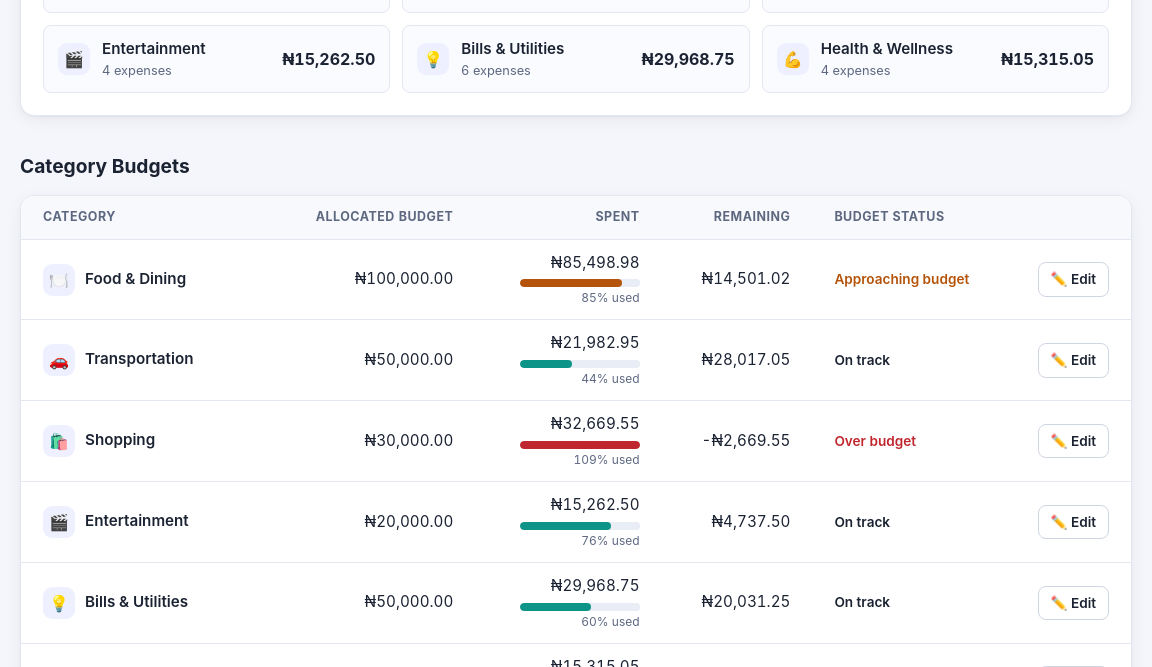
it: App › category budgets › shows live budget progress and threshold alerts
(page scrolled)
Expected: the message "Over budget" is shown, [834,433,916,449]
Click the button with aria-label "Edit budget for Transportation" at point(1073, 360), box [1038,343,1109,378]
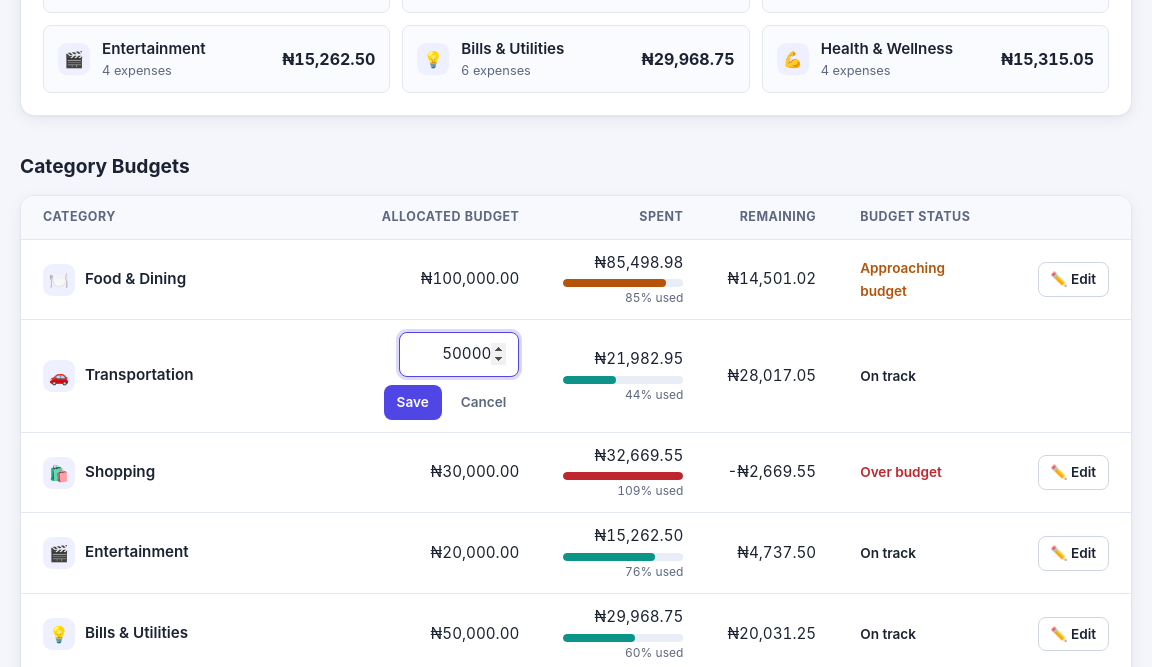
Replace the text in the number field named "Allocated budget for Transportation" with "27000" at point(459, 355), box [399,332,519,377]
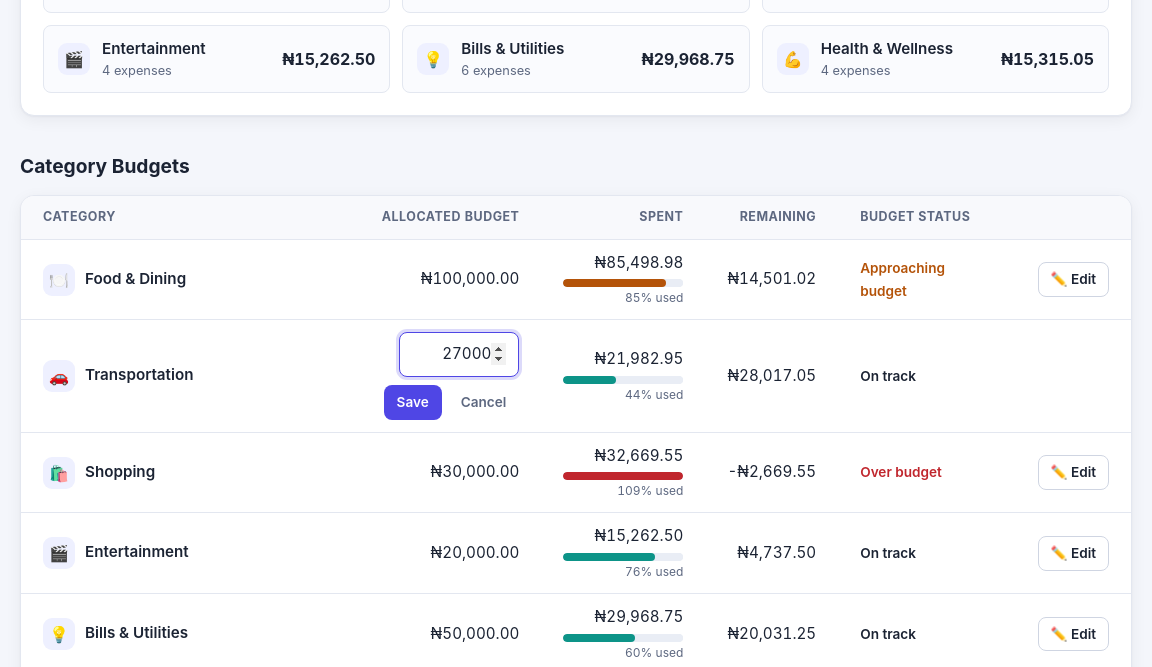
Click the button "Save" at point(413, 402), box [384,385,442,420]
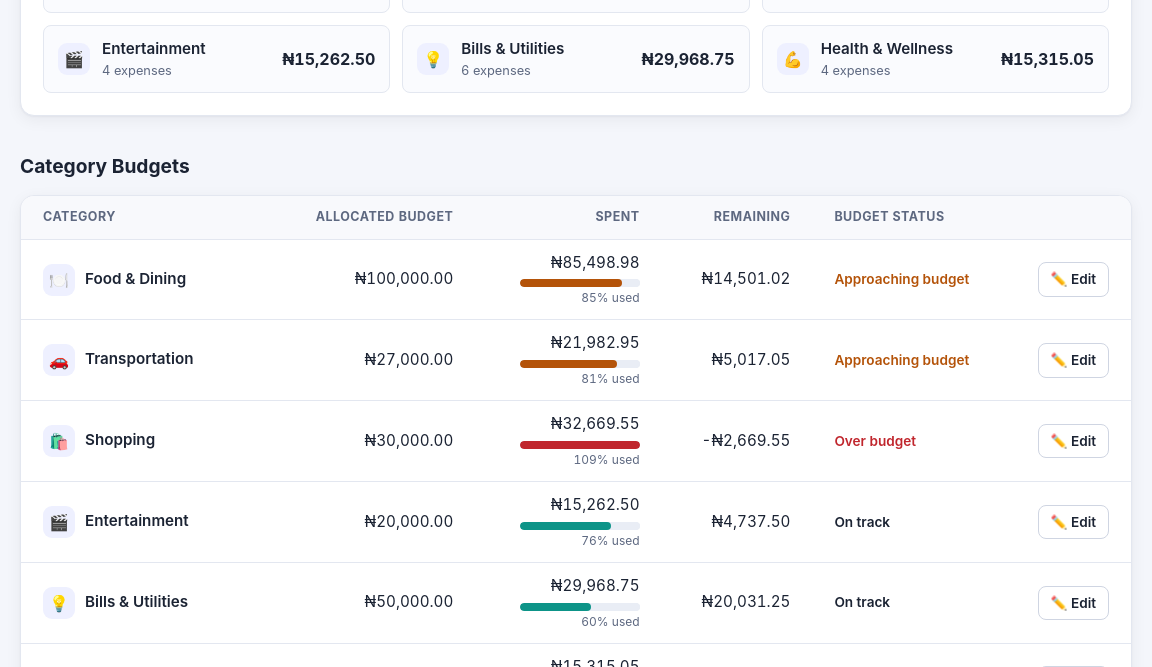
Expected: the message "Approaching budget" in the row of "₦27,000.00" is shown, [834,352,969,368]
